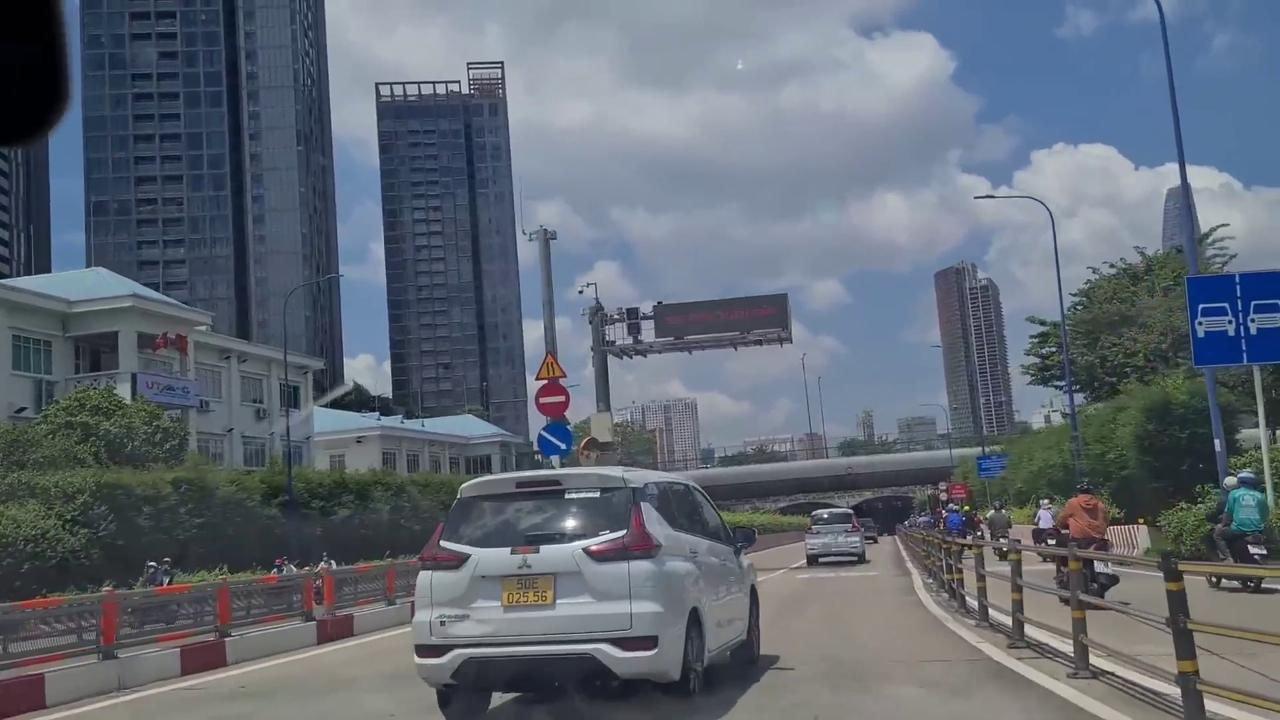Cấm đi ngược chiều: (535, 382, 571, 419)
Hướng phải đi vòng sang phải: (536, 420, 574, 459)
Đuờng hẹp: (533, 352, 569, 380)
